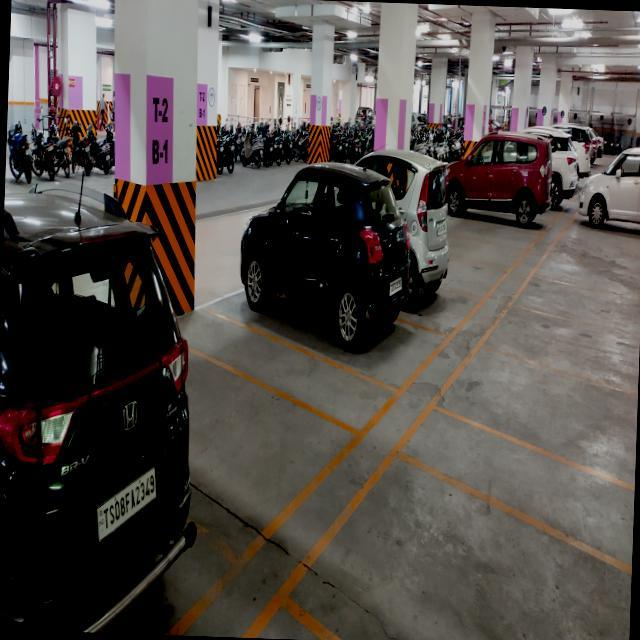car: (12, 292, 162, 594), (275, 200, 379, 354)
free: (342, 467, 506, 640), (170, 338, 272, 534), (472, 329, 600, 458)
